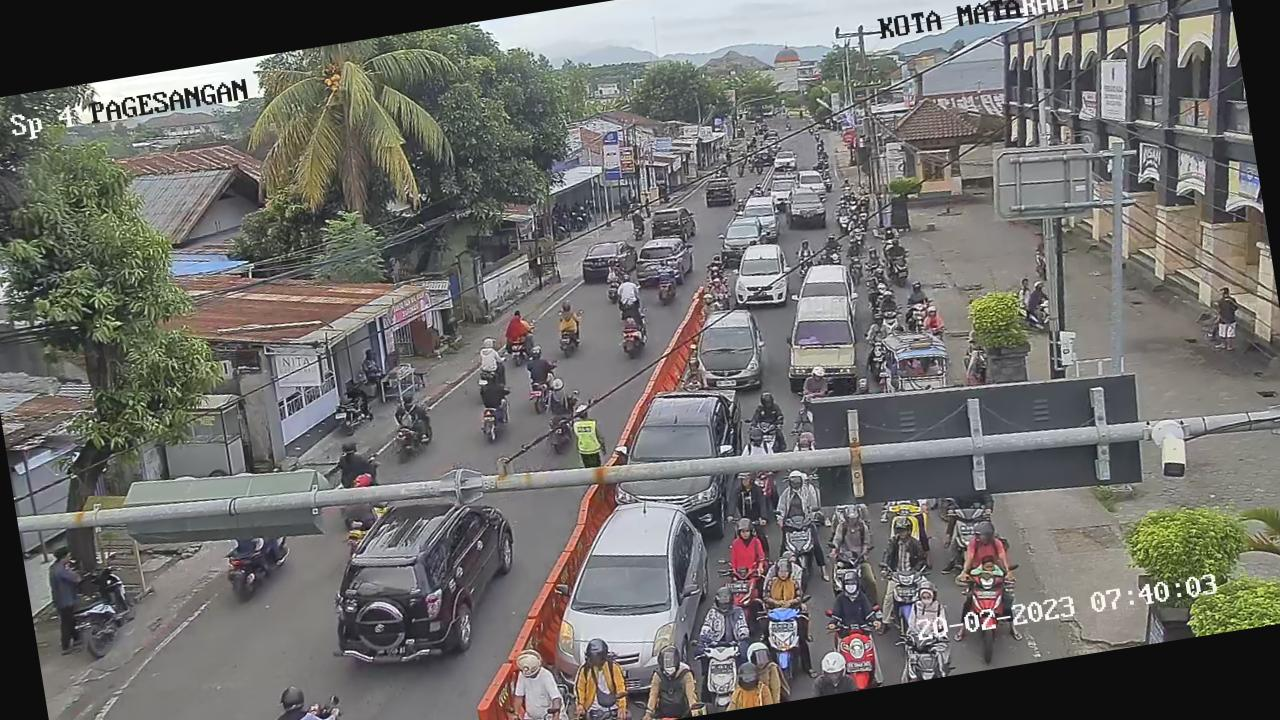car: (320, 494, 532, 674), (542, 488, 724, 682), (604, 382, 746, 488), (776, 288, 866, 393), (690, 308, 771, 394), (724, 235, 793, 310), (788, 252, 862, 317), (627, 232, 698, 288), (577, 238, 639, 287), (714, 216, 774, 266), (739, 192, 785, 245), (648, 202, 701, 245), (784, 180, 829, 230), (700, 171, 740, 210), (792, 160, 828, 197), (766, 170, 800, 206), (771, 146, 802, 177)
motorcycle: (821, 602, 895, 694), (956, 564, 1020, 662), (752, 590, 816, 674), (688, 632, 748, 711), (710, 550, 771, 626), (877, 554, 935, 626), (824, 530, 879, 596), (891, 624, 951, 684), (771, 505, 826, 566), (942, 502, 992, 558), (861, 334, 895, 382), (901, 295, 934, 332), (874, 304, 907, 339), (887, 252, 915, 288), (794, 250, 818, 278), (821, 244, 845, 268), (833, 211, 855, 234), (850, 224, 869, 248)
person: (870, 318, 954, 410), (489, 632, 576, 720), (559, 631, 637, 720), (633, 640, 704, 720), (719, 632, 789, 710), (872, 508, 942, 586), (688, 580, 752, 656), (820, 560, 884, 636), (752, 547, 814, 619), (951, 514, 1016, 581), (822, 498, 880, 568), (263, 673, 347, 720), (326, 429, 384, 494), (768, 464, 825, 530), (896, 578, 952, 645), (715, 514, 771, 578), (738, 384, 792, 450), (724, 466, 770, 526), (466, 332, 512, 378), (470, 364, 514, 412), (519, 336, 558, 390), (794, 358, 836, 408), (540, 373, 580, 424), (494, 302, 538, 346), (388, 390, 426, 430), (549, 291, 585, 333), (616, 290, 648, 328), (861, 311, 894, 345), (613, 272, 643, 306), (902, 278, 934, 309), (875, 287, 905, 319), (920, 302, 946, 338), (599, 250, 628, 282), (652, 256, 680, 288), (818, 228, 846, 260), (794, 233, 820, 267), (882, 234, 912, 261), (860, 244, 886, 274), (1026, 278, 1052, 308), (698, 290, 724, 318), (845, 209, 867, 238), (706, 274, 728, 298), (878, 221, 899, 244), (706, 250, 724, 276), (838, 174, 854, 190)
